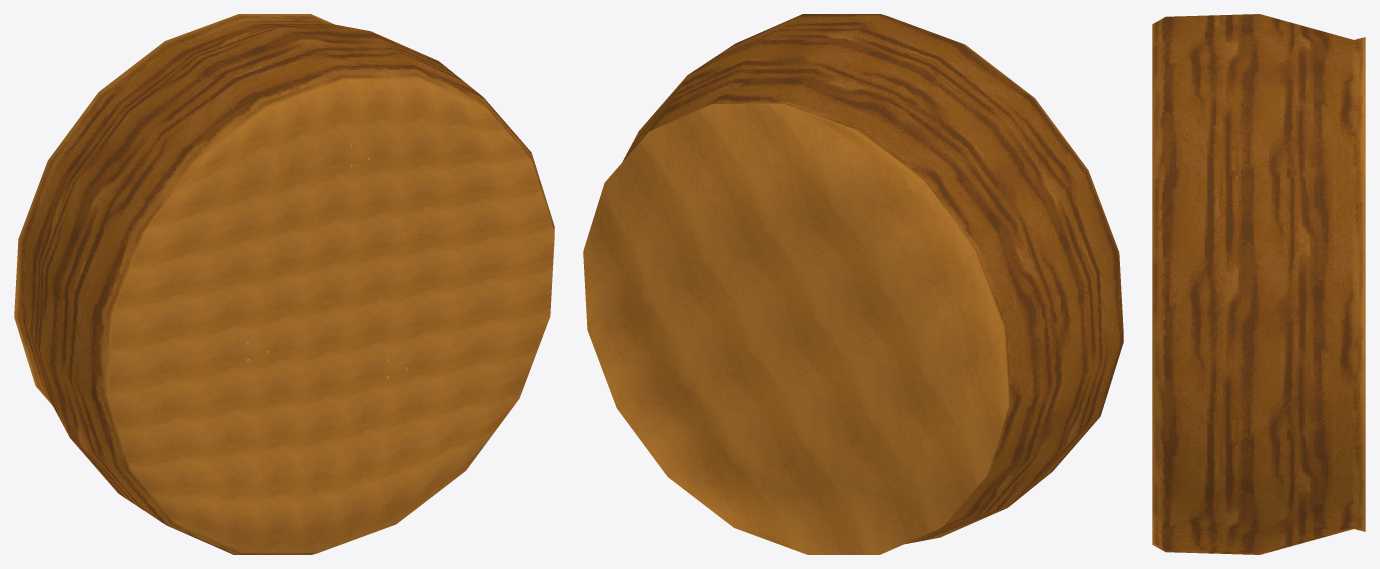
The model's file is SM_AP_Pillar_47m_0.glb.
3 renders of one model, left to right at view 1: azimuth 30°, elevation 25°; view 2: azimuth 150°, elevation 25°; view 3: azimuth 270°, elevation 25°, orthographic.
Visible parts, largest first — view 1: SM_AP_Pillar_47m_0; view 2: SM_AP_Pillar_47m_0; view 3: SM_AP_Pillar_47m_0.
Boxes of the visible parts, x1,y1,x2,y2 form: SM_AP_Pillar_47m_0: (14, 14, 554, 554); SM_AP_Pillar_47m_0: (583, 14, 1123, 554); SM_AP_Pillar_47m_0: (1152, 14, 1365, 554).
Size of the model in its own units: 47.21 by 47.21 by 18.47.
1 material, 1 textured.
